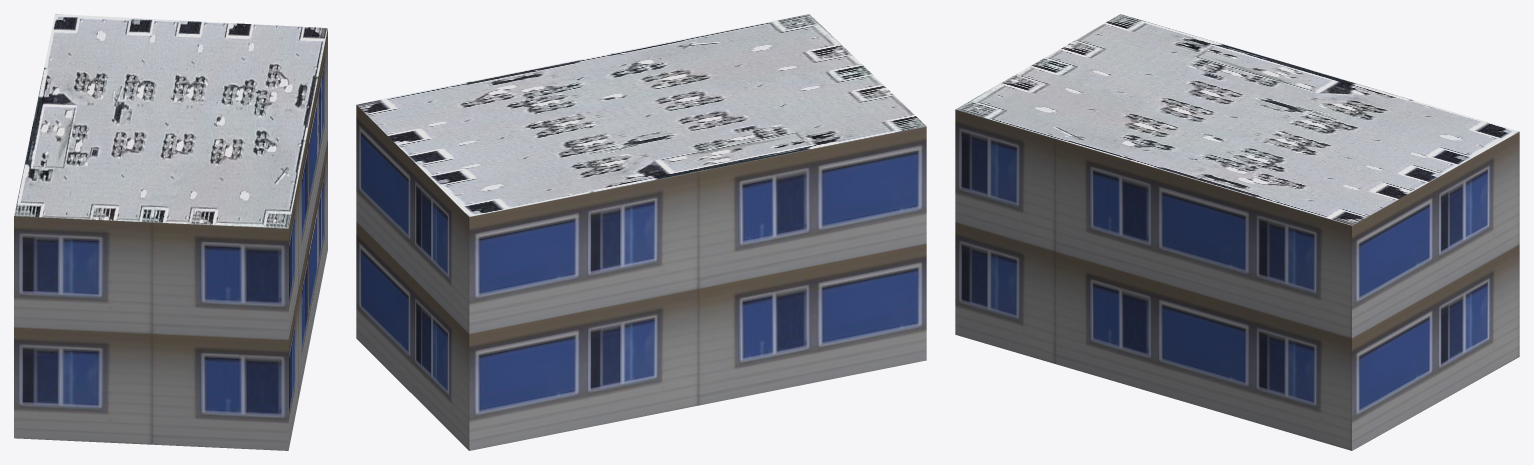
Rendered from ResTex__1888.fbx.
The picture shows the model from 3 angles, left to right: view 1: azimuth 30°, elevation 25°; view 2: azimuth 150°, elevation 25°; view 3: azimuth 270°, elevation 25°; orthographic projection. The views are drawn at different scales.
Visible parts, largest first — view 1: CityEngineMaterial_23_m, CityEngineMaterial_2_m; view 2: CityEngineMaterial_23_m, CityEngineMaterial_2_m; view 3: CityEngineMaterial_23_m, CityEngineMaterial_2_m.
Part boxes in pixels (bbox=[...]): CityEngineMaterial_23_m: bbox=[14, 28, 327, 450]; CityEngineMaterial_2_m: bbox=[14, 14, 327, 228]; CityEngineMaterial_23_m: bbox=[356, 105, 926, 450]; CityEngineMaterial_2_m: bbox=[356, 14, 926, 216]; CityEngineMaterial_23_m: bbox=[955, 109, 1519, 450]; CityEngineMaterial_2_m: bbox=[956, 14, 1519, 225].
Bounding box in the file's own units: 12.09 × 6 × 13.61.
Materials: 2 (2 with a texture image).
